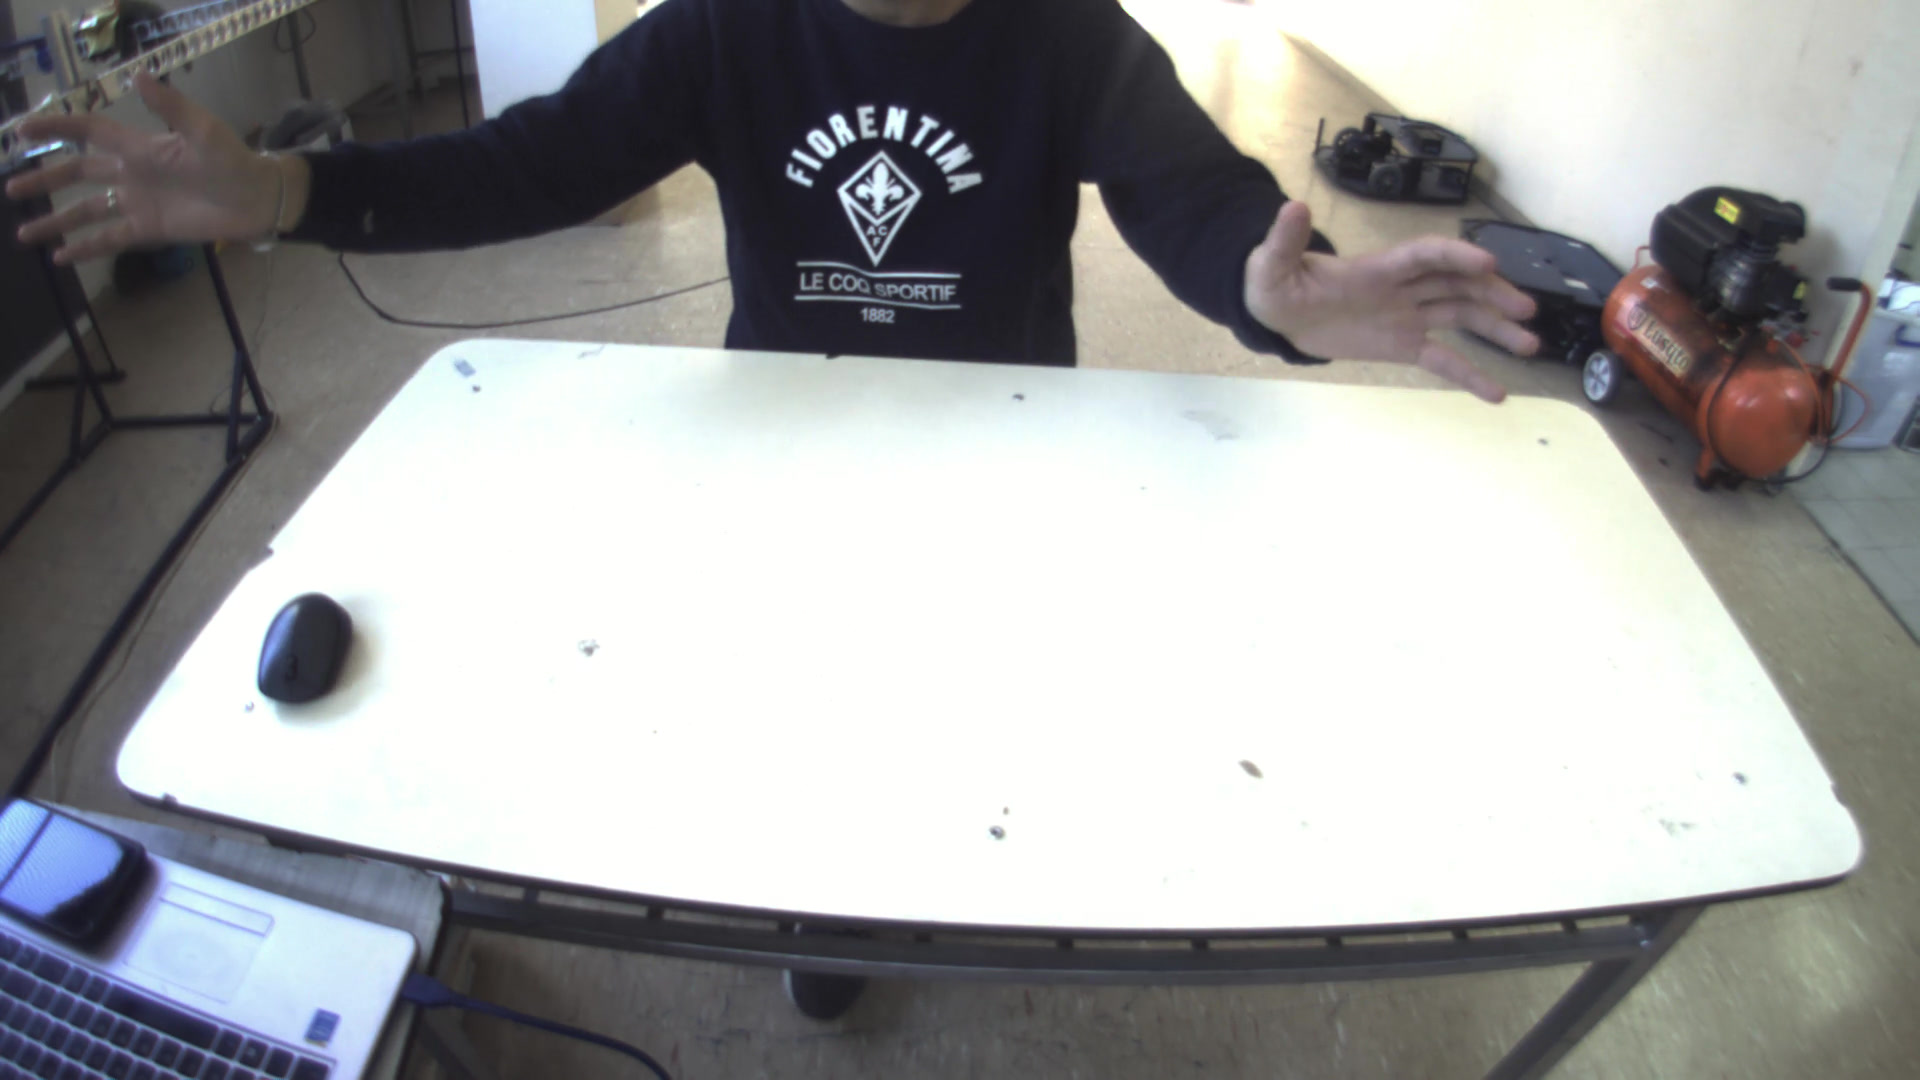hand: (0, 65, 307, 272), (1242, 204, 1559, 400)
